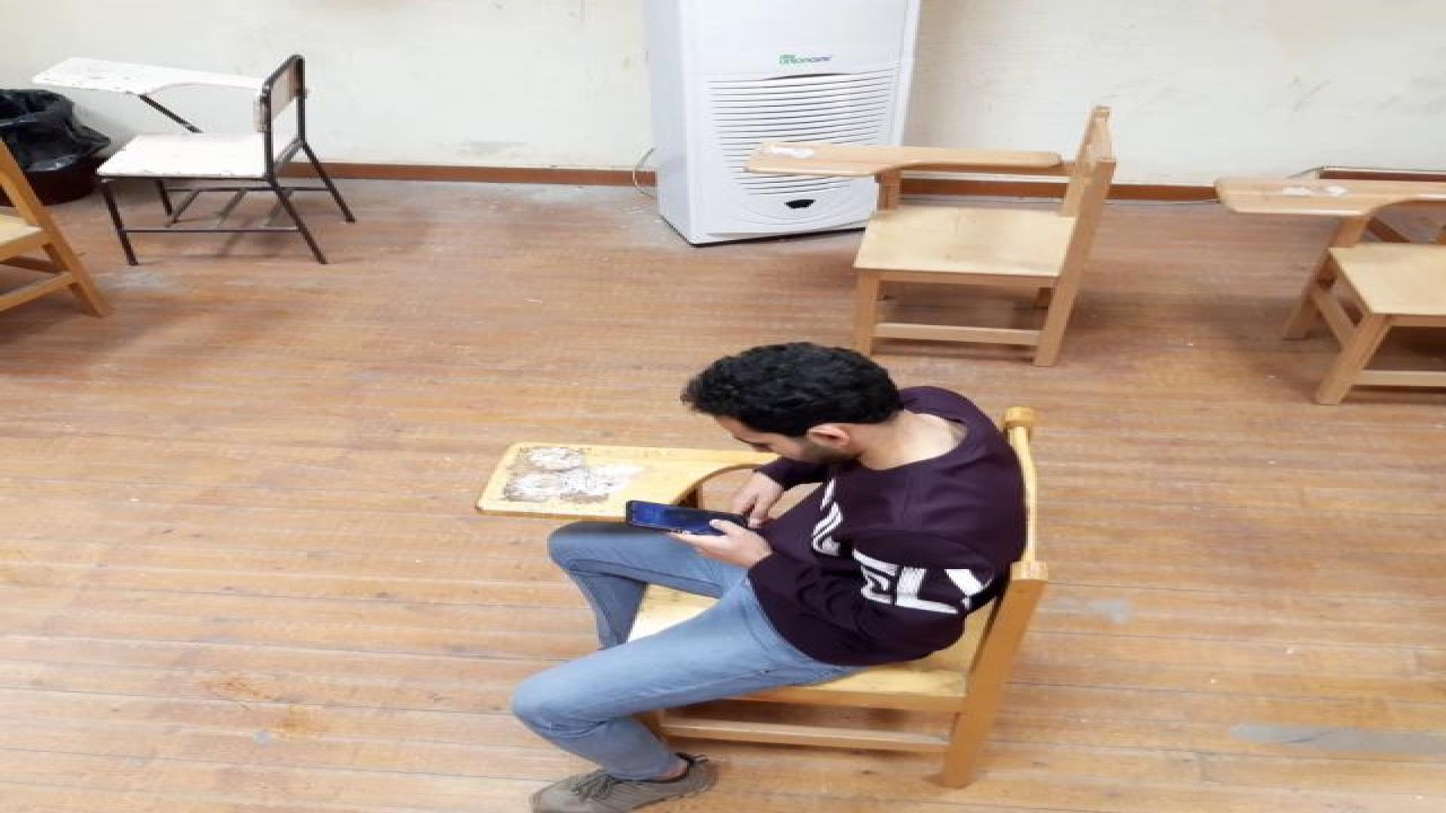phone: (621, 501, 755, 534)
